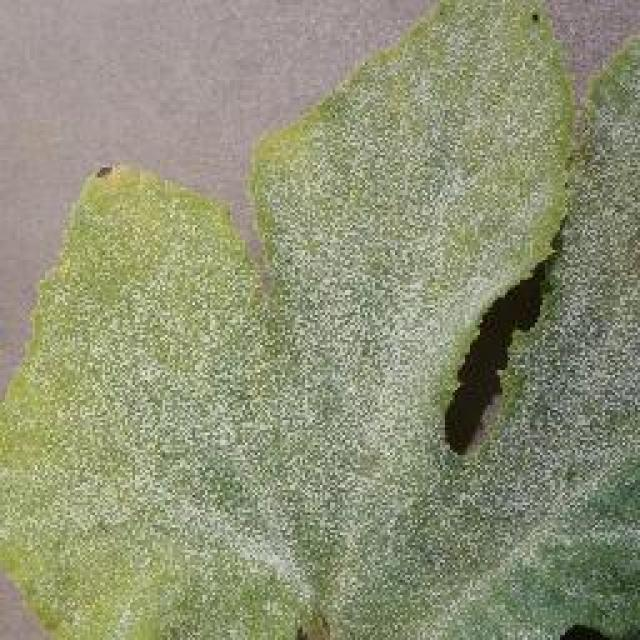Squ_Powdery_mildew: (94, 190, 640, 600)
